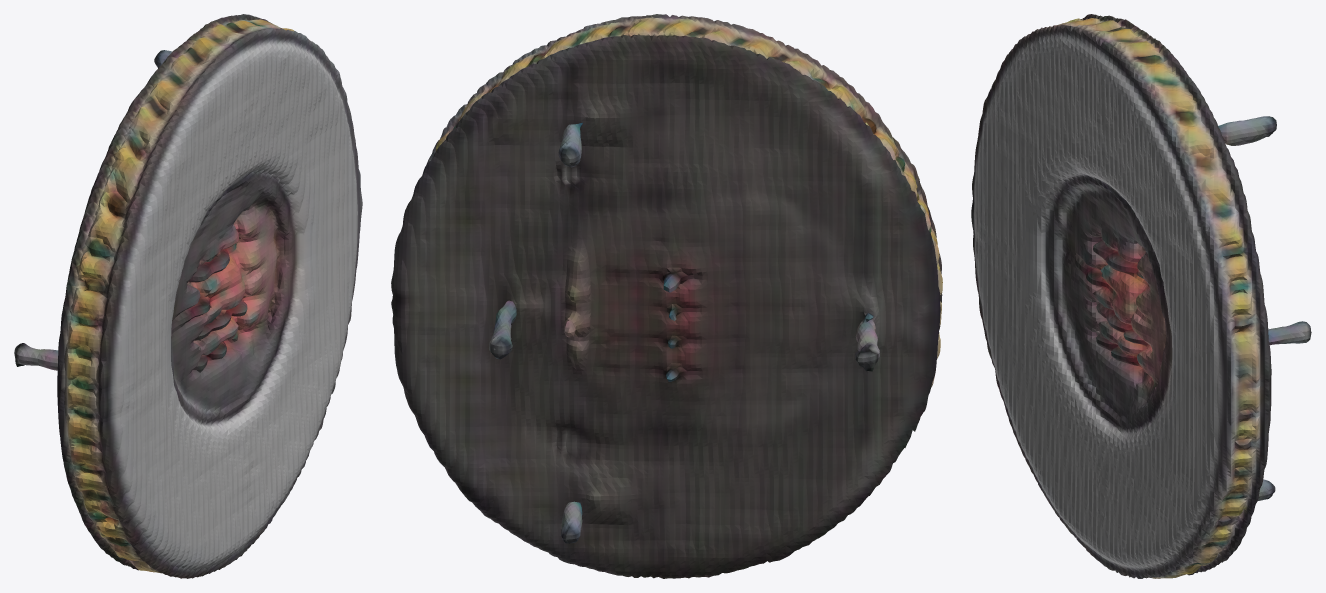
Rendered from triposr_launch_pad_base.glb.
3 renders of one model, left to right at view 1: azimuth 30°, elevation 25°; view 2: azimuth 150°, elevation 25°; view 3: azimuth 270°, elevation 25°, orthographic. The views are drawn at different scales.
Parts seen in each view (by area): view 1: geometry_0; view 2: geometry_0; view 3: geometry_0.
Part boxes in pixels (bbox=[...]): geometry_0: bbox=[14, 14, 362, 578]; geometry_0: bbox=[391, 14, 942, 578]; geometry_0: bbox=[971, 14, 1311, 578].
Size of the model in its own units: 0.7756 by 0.9401 by 0.5513.
